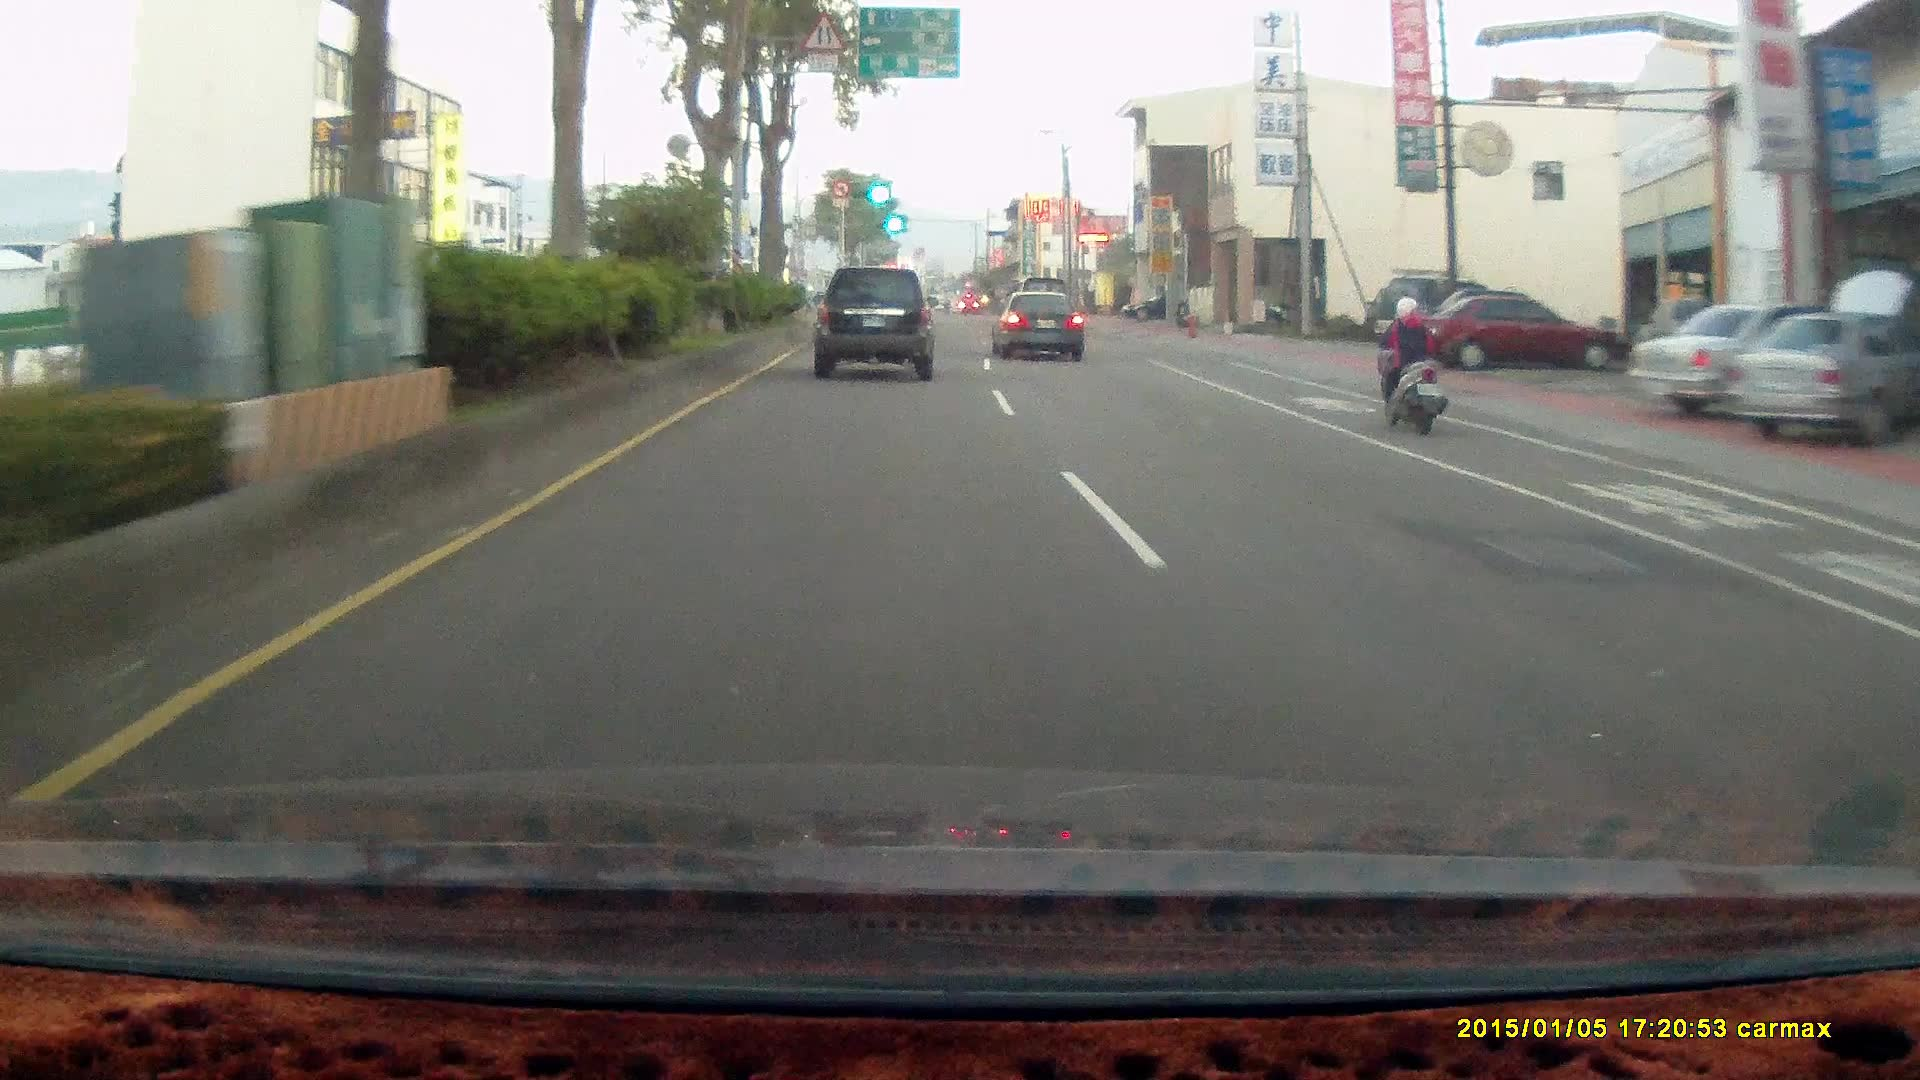rider: (1361, 281, 1458, 446), (1371, 295, 1445, 435)
vehicle: (1629, 305, 1856, 426), (1719, 314, 1919, 444), (1718, 315, 1920, 442), (1409, 297, 1620, 379), (1405, 294, 1627, 371), (811, 272, 939, 387), (814, 268, 936, 382), (1371, 273, 1495, 357), (989, 288, 1083, 359), (993, 291, 1087, 363), (1121, 294, 1191, 322)
